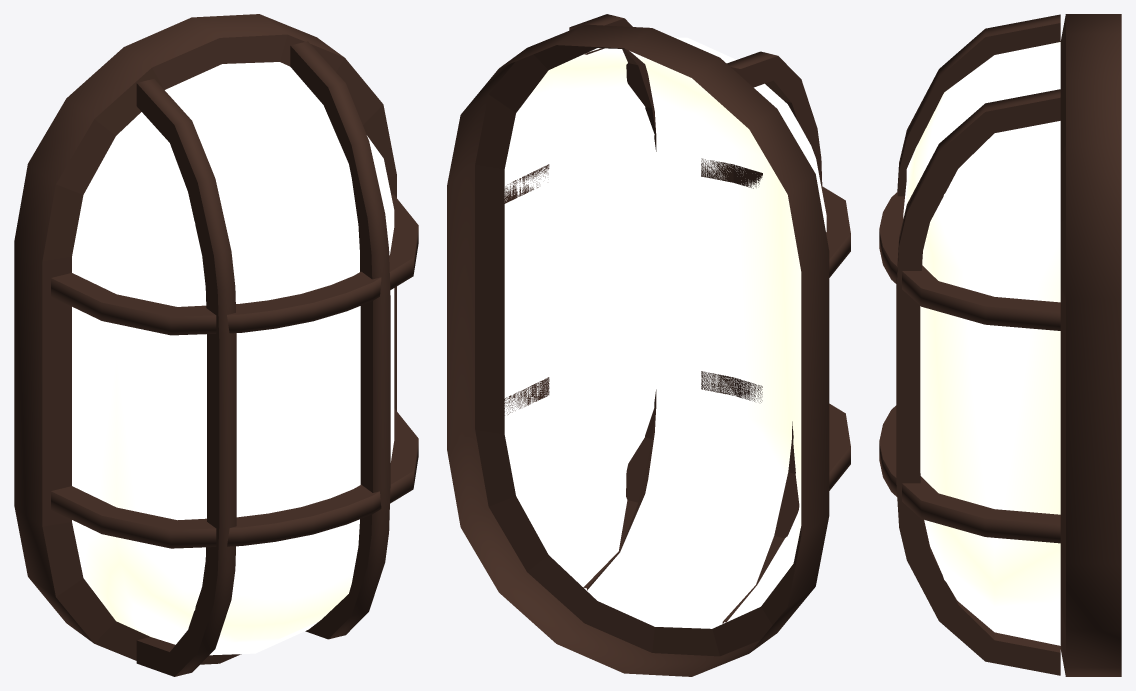
The model's file is Apliqueminero.fbx.
3 views of the same model, side by side, from view 1: azimuth 30°, elevation 25°; view 2: azimuth 150°, elevation 25°; view 3: azimuth 270°, elevation 25° (orthographic).
Parts seen in each view (by area): view 1: Apliqueminero; view 2: Apliqueminero; view 3: Apliqueminero.
Part boxes in pixels (x1,y1,x2,y2): Apliqueminero: [14, 14, 418, 676]; Apliqueminero: [447, 14, 850, 676]; Apliqueminero: [879, 14, 1121, 676].
Bounding box in the file's own units: 14.9 × 25.13 × 8.86.
